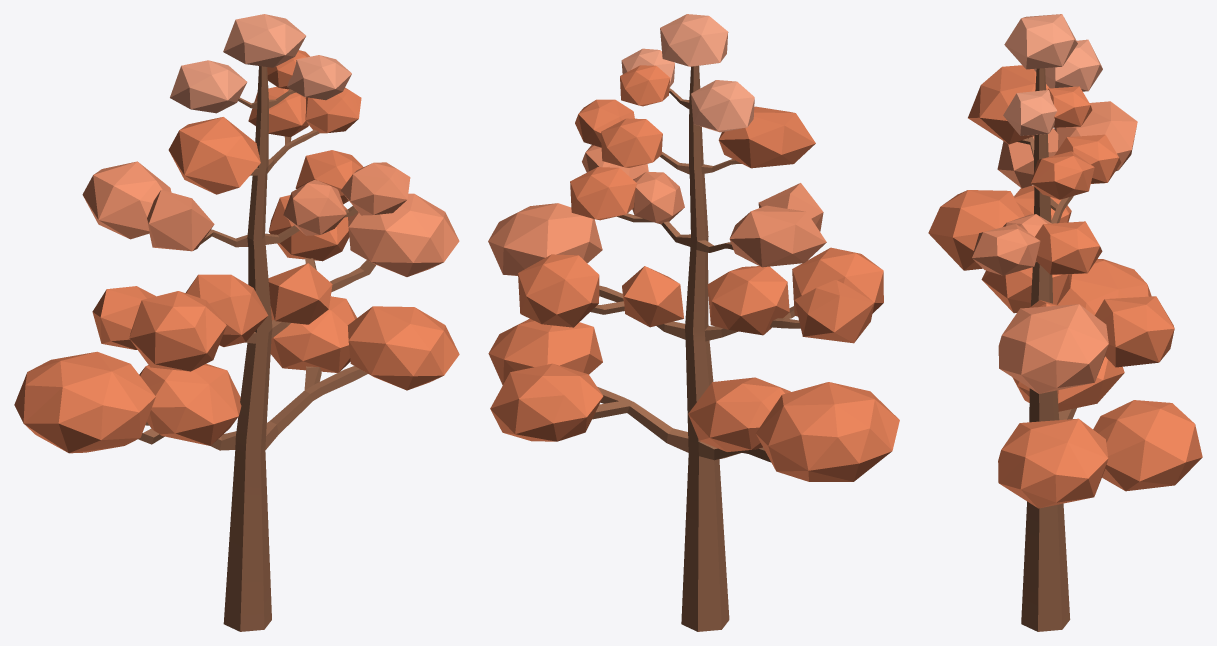
Rendered from tree_4.fbx.
3 renders of one model, left to right at view 1: azimuth 30°, elevation 25°; view 2: azimuth 150°, elevation 25°; view 3: azimuth 270°, elevation 25°, orthographic. The views are drawn at different scales.
Parts seen in each view (by area): view 1: tree_4; view 2: tree_4; view 3: tree_4.
Boxes of the visible parts, box(x1,y1,x2,y2) form: tree_4: box(14, 14, 459, 631); tree_4: box(488, 14, 899, 631); tree_4: box(928, 14, 1202, 631).
Size of the model in its own units: 582 by 814 by 333.
